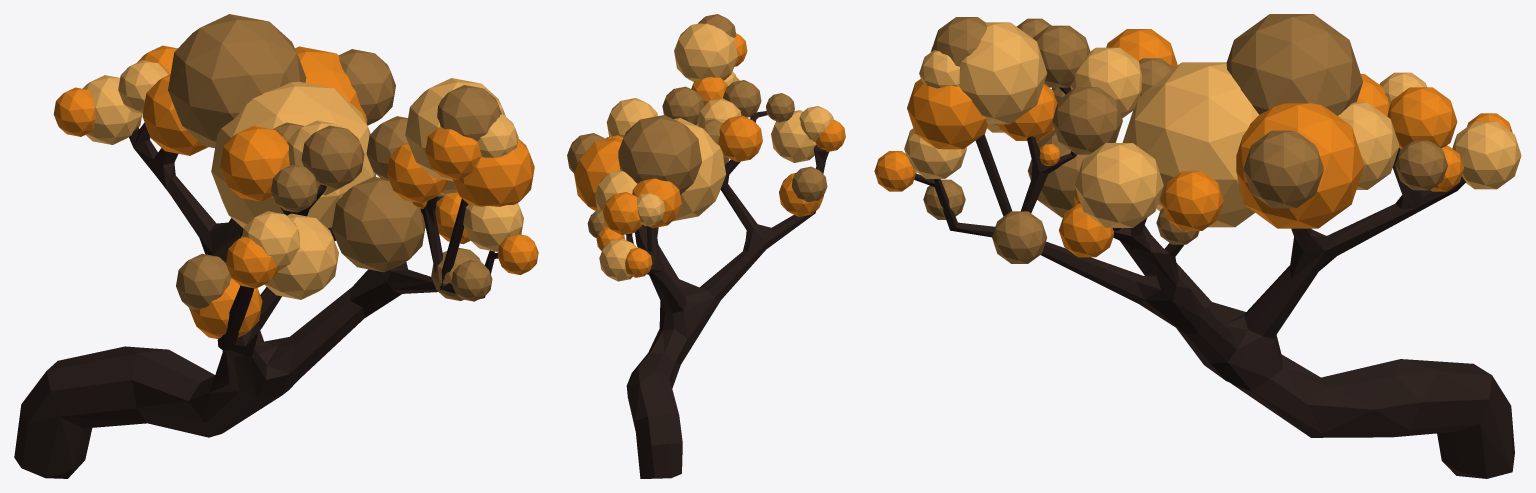
The model's file is Tree_1.fbx.
The picture shows the model from 3 angles, left to right: view 1: azimuth 30°, elevation 25°; view 2: azimuth 150°, elevation 25°; view 3: azimuth 270°, elevation 25°; orthographic projection. The views are drawn at different scales.
Parts seen in each view (by area): view 1: Tree; view 2: Tree; view 3: Tree.
Part boxes in pixels (x1,y1,x2,y2): Tree: [14, 14, 538, 478]; Tree: [567, 14, 845, 478]; Tree: [874, 14, 1521, 478].
Size of the model in its own units: 560 by 865 by 948.
